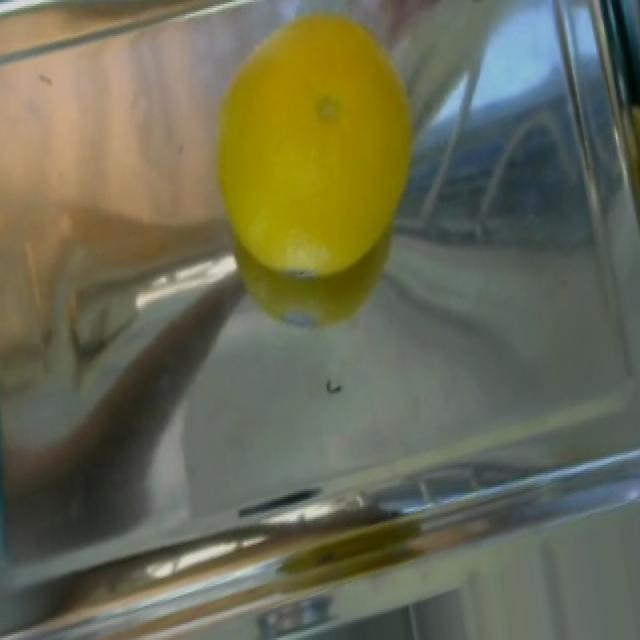Fruit: (187, 0, 433, 350)
